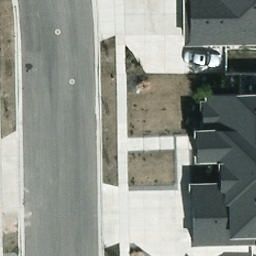car: (180, 49, 226, 70)
